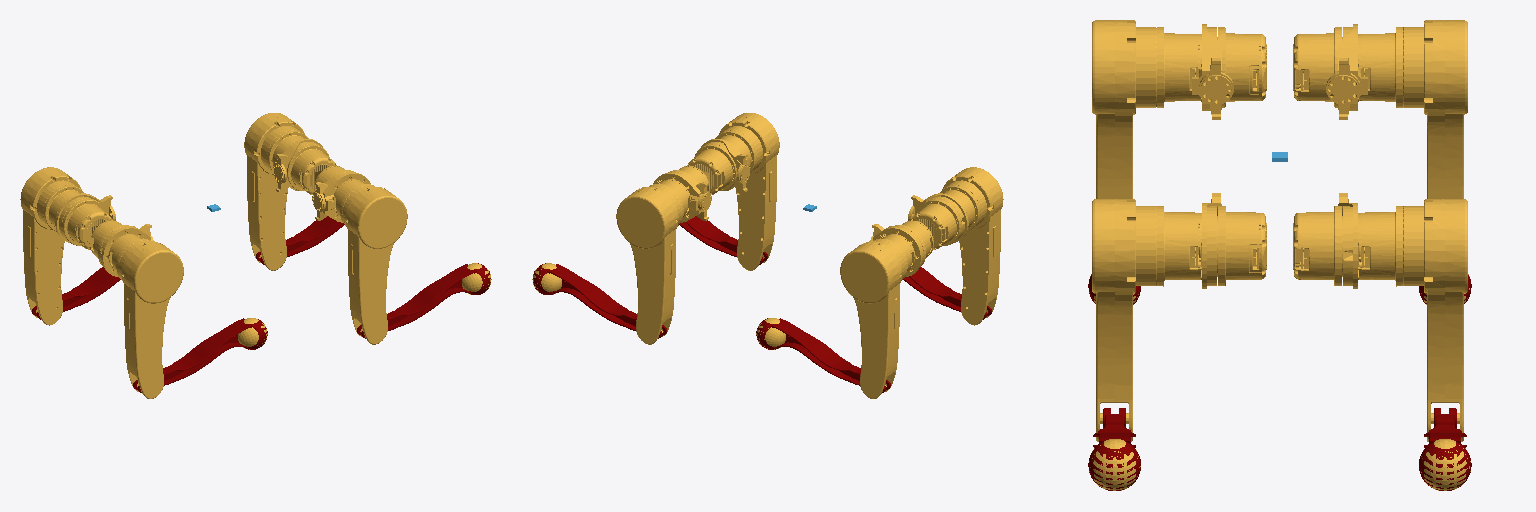
robot.urdf — robot:
<?xml version="1.0" ?>
<!-- =================================================================================== -->
<!-- |    This document was autogenerated by xacro from robot.xacro                    | -->
<!-- |    EDITING THIS FILE BY HAND IS NOT RECOMMENDED                                 | -->
<!-- =================================================================================== -->
<robot name="robot">
  <material name="black">
    <color rgba="0.0 0.0 0.0 1.0"/>
  </material>
  <material name="blue">
    <color rgba="0.0 0.0 0.8 1.0"/>
  </material>
  <material name="green">
    <color rgba="0.0 0.8 0.0 1.0"/>
  </material>
  <material name="gold">
    <color rgba="0.94901960784 0.75294117647 0.33725490196 0.0"/> 
  </material>
  <material name="grey">
    <color rgba="0.2 0.2 0.2 1.0"/>
  </material>
  <material name="silver">
    <color rgba="0.9137254901960784 0.9137254901960784 0.8470588235294118 1.0"/>
  </material>
  <material name="orange">
    <color rgba="1.0 0.4235294117647059 0.0392156862745098 1.0"/>
  </material>
  <material name="brown">
    <color rgba="0.8705882352941177 0.8117647058823529 0.7647058823529411 1.0"/>
  </material>
  <material name="red">
  <!-- aa0505 -->
    <!--color rgba="0.66666666667 0.01960784314 0.01960784314 1.0"/-->
    <color rgba="0.54901960784 0.04705882353 0.0431372549  1.0"/>
  </material>
  <material name="white">
    <color rgba="1.0 1.0 1.0 1.0"/>
  </material>
  <link name="base">
    <visual>
      <origin rpy="0 0 0" xyz="0 0 0"/>
      <geometry>
        <mesh filename="../meshes_ysc/base_link.STL" scale="1 1 1"/>
      </geometry>
      <material name="red"/>
    </visual>
    <collision>
      <origin rpy="0 0 0" xyz="0 0 0"/>
      <geometry>
        <box size="0.238 0.18 0.14"/>
      </geometry>
    </collision>
    <inertial>
      <origin rpy="0 0 0" xyz="0.00051375 -0.00026111 -0.00543225"/>
      <mass value="5.19760345"/>
      <inertia ixx="0.02304926" ixy="0.0002468" ixz="-0.00026556" iyy="0.05493657" iyz="5.697e-05" izz="0.06847865"/>
    </inertial>
  </link>
  <!-- Imu is fixed to the base link -->
  <joint name="unitree_imu_joint" type="fixed">
    <origin rpy="0. 0. 0." xyz="0. 0. 0."/>
    <parent link="base"/>
    <child link="unitree_imu"/>
  </joint>
  <!-- Imu link -->
  <link name="unitree_imu">
    <inertial>
      <mass value="0.01"/>
      <origin rpy="0 0 0" xyz="0 0 0"/>
      <inertia ixx="0.000001" ixy="0" ixz="0" iyy="0.000001" iyz="0" izz="0.000001"/>
    </inertial>
    <visual>
      <origin rpy="0 0 0" xyz="0 0 0"/>
      <geometry>
        <box size="0.015 0.015 0.004"/>
      </geometry>
    </visual>
    <material name="orange">
      <color rgba="255 108 10 255"/>
    </material>
  </link>

  <joint name="FR_hip_joint" type="revolute">
    <origin rpy="0 0 0" xyz="0.2 -0.06 -0.0"/>
    <parent link="base"/>
    <child link="FR_hip"/>
    <axis xyz="1 0 0"/>
    <dynamics damping="0.0" friction="0.0"/>
    <limit effort="19.94" lower="-0.45" upper="0.45" velocity="30.9971"/>
  </joint>
  <link name="FR_hip">
    <visual>
      <origin rpy="0 0 0" xyz="0 0 0"/>
      <!-- <origin rpy="${pi} 0 0" xyz="0 0 0"/> -->
      <geometry>
        <mesh filename="../meshes_ysc/R_hip_link.STL" scale="1 1 1"/>
      </geometry>
      <material name="gold"/>
    </visual>
    <!-- <collision>
      <origin rpy="1.5707963267948966 0 0" xyz="0 0 0"/>
      <geometry>
        <cylinder length="0.032" radius="0.035"/>
      </geometry>
    </collision> -->
    <inertial>
      <origin rpy="0 0 0" xyz="-0.00339594 0.01067293 -8.467e-05"/>
      <mass value="0.56914725"/>
      <inertia ixx="0.00031423" ixy="-2.734e-05" ixz="4e-07" iyy="0.00040314" iyz="1.33e-06" izz="0.00037574"/>
    </inertial>
  </link>
  <joint name="FR_thigh_joint" type="revolute">
    <!-- c -->
    <!-- <origin rpy="0 0 0" xyz="0 ${thigh_offset*mirror} 0"/> -->
    <origin rpy="0 0.0 0" xyz="0 -0.0963 0"/>
    <parent link="FR_hip"/>
    <child link="FR_thigh"/>
    <!-- <axis xyz="0 -1 0"/> -->
    <axis xyz="0 1 0"/>
    <dynamics damping="0.0" friction="0.0"/>
    <limit effort="19.94" lower="-1" upper="1.79" velocity="30.9971"/>
  </joint>
  <link name="FR_thigh">
    <visual>
      <origin rpy="0 0 0" xyz="0 0 0"/>
      <geometry>
        <mesh filename="../meshes_ysc/R_thigh_link.STL" scale="1 1 1"/>
      </geometry>
      <material name="gold"/>
    </visual>
    <collision>
      <origin rpy="0 1.5707963267948966 0" xyz="0 0 -0.09"/>
      <!-- <origin rpy="0 ${pi/2.0+0.1} 0" xyz="0 0 ${-thigh_length/2.0}"/> -->
      <geometry>
        <box size="0.18 0.03 0.03"/>
      </geometry>
    </collision>
    <!-- <collision>
      <origin rpy="1.5707963267948966 0 0" xyz="0 0 0"/>
      <geometry>
        <cylinder length="0.035" radius="0.035"/>
      </geometry>
    </collision> -->
    <inertial>
      <origin rpy="0 0 0" xyz="-0.00352314 0.0239451 -0.02373849"/>
      <mass value="1.01896172"/>
      <inertia ixx="0.0036974" ixy="-8.428e-05" ixz="-0.0002695" iyy="0.00342458" iyz="-0.00052094" izz="0.00112813"/>
    </inertial>
  </link>
  <joint name="FR_calf_joint" type="revolute">
    <!-- cc -->
    <origin rpy="0 0 0" xyz="0 0 -0.18"/>
    <parent link="FR_thigh"/>
    <child link="FR_calf"/>
    <axis xyz="0 1 0"/>
    <dynamics damping="0.0" friction="0.0"/>
    <limit effort="19.94" lower="-2.6195" upper="-0.9" velocity="30.9971"/>
  </joint>
  <link name="FR_calf">
    <visual>
      <origin rpy="0 0 0" xyz="0 0 0"/>
      <geometry>
        <mesh filename="../meshes_ysc/L_calf_link.STL" scale="1 1 1"/>
      </geometry>
      <material name="red"/>
    </visual>
    <collision>
      <origin rpy="0 1.5707963267948966 0" xyz="0 0 -0.09"/>
      <geometry>
        <box size="0.18 0.018 0.015"/>
      </geometry>
    </collision>
    <inertial>
      <origin rpy="0 0 0" xyz="-0.00039122 1.444e-05 -0.10612109"/>
      <mass value="0.2000138"/>
      <inertia ixx="0.0011472" ixy="2e-08" ixz="4.418e-05" iyy="0.00115864" iyz="-3.1e-07" izz="4.163e-05"/>
    </inertial>
  </link>
  <joint name="FR_foot_fixed" type="fixed" dont_collapse="true">
    <origin rpy="0 0 0" xyz="0 0 -0.18"/>
    <parent link="FR_calf"/>
    <child link="FR_foot"/>
  </joint>
  <link name="FR_foot">
    <visual>
      <origin rpy="0 0 0" xyz="0 0 0"/>
      <geometry>
        <sphere radius="0.025"/>
        <!-- <mesh filename="package://legged_redgo_description/meshes/$(arg robot_type)/FL_toe_link.STL" scale="1 1 1"/> -->
      </geometry>
      <material name="gold"/>
    </visual>
    <collision>
      <origin rpy="0 0 0" xyz="0 0 0"/>
      <geometry>
        <sphere radius="0.025"/>
      </geometry>
    </collision>
    <inertial>
      <mass value="0.0450952"/>
      <origin rpy="0 0 0" xyz="3.045e-05 0 -0.00104172"/>
      <inertia ixx="1.09e-05" ixy="0" ixz="0" iyy="1.316e-05" iyz="0" izz="1.277e-05"/>
    </inertial>
  </link>
  <joint name="FL_hip_joint" type="revolute">
    <origin rpy="0 0 0" xyz="0.2 0.06 -0.0"/>
    <parent link="base"/>
    <child link="FL_hip"/>
    <axis xyz="1 0 0"/>
    <dynamics damping="0.0" friction="0.0"/>
    <limit effort="19.94" lower="-0.45" upper="0.45" velocity="30.9971"/>
  </joint>
  <link name="FL_hip">
    <visual>
      <origin rpy="0 0 0" xyz="0 0 0"/>
      <geometry>
        <mesh filename="../meshes_ysc/L_hip_link.STL" scale="1 1 1"/>
      </geometry>
      <material name="gold"/>
    </visual>
    <!-- <collision>
      <origin rpy="1.5707963267948966 0 0" xyz="0 0 0"/>
      <geometry>
        <cylinder length="0.032" radius="0.035"/>
      </geometry>
    </collision> -->
    <inertial>
      <origin rpy="0 0 0" xyz="-0.00339594 -0.01067293 -8.467e-05"/>
      <mass value="0.56914725"/>
      <inertia ixx="0.00031423" ixy="2.734e-05" ixz="4e-07" iyy="0.00040314" iyz="-1.33e-06" izz="0.00037574"/>
    </inertial>
  </link>
  <joint name="FL_thigh_joint" type="revolute">
    <!-- c -->
    <!-- <origin rpy="0 0 0" xyz="0 ${thigh_offset*mirror} 0"/> -->
    <origin rpy="0 0.0 0" xyz="0 0.0963 0"/>
    <parent link="FL_hip"/>
    <child link="FL_thigh"/>
    <!-- <axis xyz="0 -1 0"/> -->
    <axis xyz="0 1 0"/>
    <dynamics damping="0.0" friction="0.0"/>
    <limit effort="19.94" lower="-1" upper="1.79" velocity="30.9971"/>
  </joint>
  <link name="FL_thigh">
    <visual>
      <origin rpy="0 0 0" xyz="0 0 0"/>
      <geometry>
        <mesh filename="../meshes_ysc/L_thigh_link.STL" scale="1 1 1"/>
      </geometry>
      <material name="gold"/>
    </visual>
    <collision>
      <origin rpy="0 1.5707963267948966 0" xyz="0 0 -0.09"/>
      <!-- <origin rpy="0 ${pi/2.0+0.1} 0" xyz="0 0 ${-thigh_length/2.0}"/> -->
      <geometry>
        <box size="0.18 0.03 0.03"/>
      </geometry>
    </collision>
    <!-- <collision>
      <origin rpy="1.5707963267948966 0 0" xyz="0 0 0"/>
      <geometry>
        <cylinder length="0.035" radius="0.035"/>
      </geometry>
    </collision> -->
    <inertial>
      <origin rpy="0 0 0" xyz="-0.00352314 -0.0239451 -0.02373849"/>
      <mass value="1.01896172"/>
      <inertia ixx="0.0036974" ixy="8.428e-05" ixz="-0.0002695" iyy="0.00342458" iyz="0.00052094" izz="0.00112813"/>
    </inertial>
  </link>
  <joint name="FL_calf_joint" type="revolute">
    <!-- cc -->
    <origin rpy="0 0 0" xyz="0 0 -0.18"/>
    <parent link="FL_thigh"/>
    <child link="FL_calf"/>
    <axis xyz="0 1 0"/>
    <dynamics damping="0.0" friction="0.0"/>
    <limit effort="19.94" lower="-2.6195" upper="-0.9" velocity="30.9971"/>
  </joint>
  <link name="FL_calf">
    <visual>
      <origin rpy="0 0 0" xyz="0 0 0"/>
      <geometry>
        <mesh filename="../meshes_ysc/L_calf_link.STL" scale="1 1 1"/>
      </geometry>
      <material name="red"/>
    </visual>
    <collision>
      <origin rpy="0 1.5707963267948966 0" xyz="0 0 -0.09"/>
      <geometry>
        <box size="0.18 0.018 0.015"/>
      </geometry>
    </collision>
    <inertial>
      <origin rpy="0 0 0" xyz="-0.00039122 1.444e-05 -0.10612109"/>
      <mass value="0.2000138"/>
      <inertia ixx="0.0011472" ixy="2e-08" ixz="4.418e-05" iyy="0.00115864" iyz="-3.1e-07" izz="4.163e-05"/>
    </inertial>
  </link>
  <joint name="FL_foot_fixed" type="fixed" dont_collapse="true">
    <origin rpy="0 0 0" xyz="0 0 -0.18"/>
    <parent link="FL_calf"/>
    <child link="FL_foot"/>
  </joint>
  <link name="FL_foot">
    <visual>
      <origin rpy="0 0 0" xyz="0 0 0"/>
      <geometry>
        <sphere radius="0.025"/>
        <!-- <mesh filename="package://legged_redgo_description/meshes/$(arg robot_type)/FL_toe_link.STL" scale="1 1 1"/> -->
      </geometry>
      <material name="gold"/>
    </visual>
    <collision>
      <origin rpy="0 0 0" xyz="0 0 0"/>
      <geometry>
        <sphere radius="0.025"/>
      </geometry>
    </collision>
    <inertial>
      <mass value="0.0450952"/>
      <origin rpy="0 0 0" xyz="3.045e-05 0 -0.00104172"/>
      <inertia ixx="1.09e-05" ixy="0" ixz="0" iyy="1.316e-05" iyz="0" izz="1.277e-05"/>
    </inertial>
  </link>

  <joint name="RR_hip_joint" type="revolute">
    <origin rpy="0 0 0" xyz="-0.2 -0.06 -0.0"/>
    <parent link="base"/>
    <child link="RR_hip"/>
    <axis xyz="1 0 0"/>
    <dynamics damping="0.0" friction="0.0"/>
    <limit effort="19.94" lower="-0.45" upper="0.45" velocity="30.9971"/>
  </joint>
  <link name="RR_hip">
    <visual>
      <origin rpy="0 0 3.141592653589793" xyz="0 0 0"/>
      <!-- <origin rpy="${pi} ${pi} 0" xyz="0 0 0"/> -->
      <geometry>
        <mesh filename="../meshes_ysc/L_hip_link.STL" scale="1 1 1"/>
      </geometry>
      <material name="gold"/>
    </visual>
    <!-- <collision>
      <origin rpy="1.5707963267948966 0 0" xyz="0 0 0"/>
      <geometry>
        <cylinder length="0.032" radius="0.035"/>
      </geometry>
    </collision> -->
    <inertial>
      <origin rpy="0 0 0" xyz="0.00339594 0.01067293 -8.467e-05"/>
      <mass value="0.56914725"/>
      <inertia ixx="0.00031423" ixy="2.734e-05" ixz="-4e-07" iyy="0.00040314" iyz="1.33e-06" izz="0.00037574"/>
    </inertial>
  </link>
  <joint name="RR_thigh_joint" type="revolute">
    <!-- c -->
    <!-- <origin rpy="0 0 0" xyz="0 ${thigh_offset*mirror} 0"/> -->
    <origin rpy="0 0.0 0" xyz="0 -0.0963 0"/>
    <parent link="RR_hip"/>
    <child link="RR_thigh"/>
    <!-- <axis xyz="0 -1 0"/> -->
    <axis xyz="0 1 0"/>
    <dynamics damping="0.0" friction="0.0"/>
    <limit effort="19.94" lower="-1" upper="1.79" velocity="30.9971"/>
  </joint>
  <link name="RR_thigh">
    <visual>
      <origin rpy="0 0 0" xyz="0 0 0"/>
      <geometry>
        <mesh filename="../meshes_ysc/R_thigh_link.STL" scale="1 1 1"/>
      </geometry>
      <material name="gold"/>
    </visual>
    <collision>
      <origin rpy="0 1.5707963267948966 0" xyz="0 0 -0.09"/>
      <!-- <origin rpy="0 ${pi/2.0+0.1} 0" xyz="0 0 ${-thigh_length/2.0}"/> -->
      <geometry>
        <box size="0.18 0.03 0.03"/>
      </geometry>
    </collision>
    <!-- <collision>
      <origin rpy="1.5707963267948966 0 0" xyz="0 0 0"/>
      <geometry>
        <cylinder length="0.035" radius="0.035"/>
      </geometry>
    </collision> -->
    <inertial>
      <origin rpy="0 0 0" xyz="-0.00352314 0.0239451 -0.02373849"/>
      <mass value="1.01896172"/>
      <inertia ixx="0.0036974" ixy="-8.428e-05" ixz="-0.0002695" iyy="0.00342458" iyz="-0.00052094" izz="0.00112813"/>
    </inertial>
  </link>
  <joint name="RR_calf_joint" type="revolute">
    <!-- cc -->
    <origin rpy="0 0 0" xyz="0 0 -0.18"/>
    <parent link="RR_thigh"/>
    <child link="RR_calf"/>
    <axis xyz="0 1 0"/>
    <dynamics damping="0.0" friction="0.0"/>
    <limit effort="19.94" lower="-2.6195" upper="-0.9" velocity="30.9971"/>
  </joint>
  <link name="RR_calf">
    <visual>
      <origin rpy="0 0 0" xyz="0 0 0"/>
      <geometry>
        <mesh filename="../meshes_ysc/L_calf_link.STL" scale="1 1 1"/>
      </geometry>
      <material name="red"/>
    </visual>
    <collision>
      <origin rpy="0 1.5707963267948966 0" xyz="0 0 -0.09"/>
      <geometry>
        <box size="0.18 0.018 0.015"/>
      </geometry>
    </collision>
    <inertial>
      <origin rpy="0 0 0" xyz="-0.00039122 1.444e-05 -0.10612109"/>
      <mass value="0.2000138"/>
      <inertia ixx="0.0011472" ixy="2e-08" ixz="4.418e-05" iyy="0.00115864" iyz="-3.1e-07" izz="4.163e-05"/>
    </inertial>
  </link>
  <joint name="RR_foot_fixed" type="fixed" dont_collapse="true">
    <origin rpy="0 0 0" xyz="0 0 -0.18"/>
    <parent link="RR_calf"/>
    <child link="RR_foot"/>
  </joint>
  <link name="RR_foot">
    <visual>
      <origin rpy="0 0 0" xyz="0 0 0"/>
      <geometry>
        <sphere radius="0.025"/>
        <!-- <mesh filename="package://legged_redgo_description/meshes/$(arg robot_type)/FL_toe_link.STL" scale="1 1 1"/> -->
      </geometry>
      <material name="gold"/>
    </visual>
    <collision>
      <origin rpy="0 0 0" xyz="0 0 0"/>
      <geometry>
        <sphere radius="0.025"/>
      </geometry>
    </collision>
    <!-- <inertial>
                <mass value="${foot_mass}"/>
                <inertia
                        ixx="${(2*foot_mass)/5.0*(foot_radius*foot_radius)}" ixy="0.0" ixz="0.0"
                        iyy="${(2*foot_mass)/5.0*(foot_radius*foot_radius)}" iyz="0.0"
                        izz="${(2*foot_mass)/5.0*(foot_radius*foot_radius)}"/>
            </inertial> -->
    <!-- <inertial>
                <mass value="${0.0}"/>
                <inertia
                        ixx="0.0" ixy="0.0" ixz="0.0"
                        iyy="0.0" iyz="0.0"
                        izz="0.0"/>
            </inertial> -->
    <inertial>
      <mass value="0.0450952"/>
      <origin rpy="0 0 0" xyz="3.045e-05 0 -0.00104172"/>
      <inertia ixx="1.09e-05" ixy="0" ixz="0" iyy="1.316e-05" iyz="0" izz="1.277e-05"/>
    </inertial>
  </link>

  <joint name="RL_hip_joint" type="revolute">
    <origin rpy="0 0 0" xyz="-0.2 0.06 -0.0"/>
    <parent link="base"/>
    <child link="RL_hip"/>
    <axis xyz="1 0 0"/>
    <dynamics damping="0.0" friction="0.0"/>
    <limit effort="19.94" lower="-0.45" upper="0.45" velocity="30.9971"/>
  </joint>
  <link name="RL_hip">
    <visual>
      <origin rpy="0 0 3.141592653589793" xyz="0 0 0"/>
      <!-- <origin rpy="0 ${pi} 0" xyz="0 0 0"/> -->
      <geometry>
        <mesh filename="../meshes_ysc/R_hip_link.STL" scale="1 1 1"/>
      </geometry>
      <material name="gold"/>
    </visual>
    <!-- <collision>
      <origin rpy="1.5707963267948966 0 0" xyz="0 0 0"/>
      <geometry>
        <cylinder length="0.032" radius="0.035"/>
      </geometry>
    </collision> -->
    <inertial>
      <origin rpy="0 0 0" xyz="0.00339594 -0.01067293 -8.467e-05"/>
      <mass value="0.56914725"/>
      <inertia ixx="0.00031423" ixy="-2.734e-05" ixz="-4e-07" iyy="0.00040314" iyz="-1.33e-06" izz="0.00037574"/>
    </inertial>
  </link>
  <joint name="RL_thigh_joint" type="revolute">
    <!-- c -->
    <!-- <origin rpy="0 0 0" xyz="0 ${thigh_offset*mirror} 0"/> -->
    <origin rpy="0 0.0 0" xyz="0 0.0963 0"/>
    <parent link="RL_hip"/>
    <child link="RL_thigh"/>
    <!-- <axis xyz="0 -1 0"/> -->
    <axis xyz="0 1 0"/>
    <dynamics damping="0.0" friction="0.0"/>
    <limit effort="19.94" lower="-1" upper="1.79" velocity="30.9971"/>
  </joint>
  <link name="RL_thigh">
    <visual>
      <origin rpy="0 0 0" xyz="0 0 0"/>
      <geometry>
        <mesh filename="../meshes_ysc/L_thigh_link.STL" scale="1 1 1"/>
      </geometry>
      <material name="gold"/>
    </visual>
    <collision>
      <origin rpy="0 1.5707963267948966 0" xyz="0 0 -0.09"/>
      <!-- <origin rpy="0 ${pi/2.0+0.1} 0" xyz="0 0 ${-thigh_length/2.0}"/> -->
      <geometry>
        <box size="0.18 0.03 0.03"/>
      </geometry>
    </collision>
    <!-- <collision>
      <origin rpy="1.5707963267948966 0 0" xyz="0 0 0"/>
      <geometry>
        <cylinder length="0.035" radius="0.035"/>
      </geometry>
    </collision> -->
    <inertial>
      <origin rpy="0 0 0" xyz="-0.00352314 -0.0239451 -0.02373849"/>
      <mass value="1.01896172"/>
      <inertia ixx="0.0036974" ixy="8.428e-05" ixz="-0.0002695" iyy="0.00342458" iyz="0.00052094" izz="0.00112813"/>
    </inertial>
  </link>
  <joint name="RL_calf_joint" type="revolute">
    <!-- cc -->
    <origin rpy="0 0 0" xyz="0 0 -0.18"/>
    <parent link="RL_thigh"/>
    <child link="RL_calf"/>
    <axis xyz="0 1 0"/>
    <dynamics damping="0.0" friction="0.0"/>
    <limit effort="19.94" lower="-2.6195" upper="-0.9" velocity="30.9971"/>
  </joint>
  <link name="RL_calf">
    <visual>
      <origin rpy="0 0 0" xyz="0 0 0"/>
      <geometry>
        <mesh filename="../meshes_ysc/L_calf_link.STL" scale="1 1 1"/>
      </geometry>
      <material name="red"/>
    </visual>
    <collision>
      <origin rpy="0 1.5707963267948966 0" xyz="0 0 -0.09"/>
      <geometry>
        <box size="0.18 0.018 0.015"/>
      </geometry>
    </collision>
    <inertial>
      <origin rpy="0 0 0" xyz="-0.00039122 1.444e-05 -0.10612109"/>
      <mass value="0.2000138"/>
      <inertia ixx="0.0011472" ixy="2e-08" ixz="4.418e-05" iyy="0.00115864" iyz="-3.1e-07" izz="4.163e-05"/>
    </inertial>
  </link>
  <joint name="RL_foot_fixed" type="fixed" dont_collapse="true">
    <origin rpy="0 0 0" xyz="0 0 -0.18"/>
    <parent link="RL_calf"/>
    <child link="RL_foot"/>
  </joint>
  <link name="RL_foot">
    <visual>
      <origin rpy="0 0 0" xyz="0 0 0"/>
      <geometry>
        <sphere radius="0.025"/>
        <!-- <mesh filename="package://legged_redgo_description/meshes/$(arg robot_type)/FL_toe_link.STL" scale="1 1 1"/> -->
      </geometry>
      <material name="gold"/>
    </visual>
    <collision>
      <origin rpy="0 0 0" xyz="0 0 0"/>
      <geometry>
        <sphere radius="0.025"/>
      </geometry>
    </collision>
    <!-- <inertial>
                <mass value="${foot_mass}"/>
                <inertia
                        ixx="${(2*foot_mass)/5.0*(foot_radius*foot_radius)}" ixy="0.0" ixz="0.0"
                        iyy="${(2*foot_mass)/5.0*(foot_radius*foot_radius)}" iyz="0.0"
                        izz="${(2*foot_mass)/5.0*(foot_radius*foot_radius)}"/>
            </inertial> -->
    <!-- <inertial>
                <mass value="${0.0}"/>
                <inertia
                        ixx="0.0" ixy="0.0" ixz="0.0"
                        iyy="0.0" iyz="0.0"
                        izz="0.0"/>
            </inertial> -->
    <inertial>
      <mass value="0.0450952"/>
      <origin rpy="0 0 0" xyz="3.045e-05 0 -0.00104172"/>
      <inertia ixx="1.09e-05" ixy="0" ixz="0" iyy="1.316e-05" iyz="0" izz="1.277e-05"/>
    </inertial>
  </link>

  <!-- Robot Footprint
  <joint name="footprint_joint" type="fixed">
    <parent link="base"/>
    <child link="base_footprint"/>
    <origin rpy="0 0 0" xyz="0.0 0.0 -0.2"/>
  </joint>
  <link name="base_footprint">
    <inertial>
      <origin rpy="1.5707963267948966 0 1.5707963267948966" xyz="0 0 0"/>
      <mass value="0.001"/>
      <inertia ixx="0.0" ixy="0.0" ixz="0.0" iyy="0.0" iyz="0.0" izz="0.0"/>
    </inertial>
  </link> -->
  <!-- <xacro:lidar parent="base" xyz="-0.065 0. 0.1" rpy="0. 0. 0."/> -->
</robot>

--- What the picture shows (computed from the rendered views, not written in the file) ---
The picture shows the robot from 3 angles, left to right: view 1: azimuth 30°, elevation 25°; view 2: azimuth 150°, elevation 25°; view 3: azimuth 270°, elevation 25°; orthographic projection.
Robot: robot — 18 links, 17 joints (12 revolute, 5 fixed); root link base; default pose: all joints at 0 but 4 set to mid-range because 0 is outside their limits (FR_calf_joint = -1.76, FL_calf_joint = -1.76, RR_calf_joint = -1.76, RL_calf_joint = -1.76).
Links seen in each view (by area): view 1: RR_thigh, FR_thigh, RL_thigh, FL_thigh, FL_hip, RL_hip, RR_calf, FR_calf, FR_hip, RR_hip, RL_calf, FL_calf; view 2: RL_thigh, FL_thigh, RR_thigh, FR_thigh, FR_hip, RR_hip, RL_calf, FL_calf, FL_hip, RL_hip, RR_calf, FR_calf; view 3: FL_thigh, FR_thigh, RL_thigh, RR_thigh, RR_hip, RL_hip, FR_hip, FL_hip, FL_calf, FR_calf, FR_foot, FL_foot.
Link boxes in pixels (box(x1,y1,x2,y2)): RR_thigh: box(108, 234, 183, 398); FR_thigh: box(333, 179, 407, 344); RL_thigh: box(20, 167, 83, 325); FL_thigh: box(244, 113, 308, 270); FL_hip: box(274, 139, 336, 194); RL_hip: box(55, 193, 115, 249); RR_calf: box(133, 318, 267, 392); FR_calf: box(357, 263, 490, 338); FR_hip: box(312, 166, 370, 222); RR_hip: box(91, 220, 153, 276); RL_calf: box(32, 267, 120, 319); FL_calf: box(256, 216, 344, 264); RL_thigh: box(840, 234, 915, 398); FL_thigh: box(616, 179, 690, 344); RR_thigh: box(940, 167, 1003, 325); FR_thigh: box(715, 113, 779, 270); FR_hip: box(687, 139, 749, 194); RR_hip: box(908, 193, 968, 249); RL_calf: box(756, 318, 890, 392); FL_calf: box(533, 263, 666, 338); FL_hip: box(653, 166, 711, 222); RL_hip: box(870, 220, 933, 276); RR_calf: box(903, 267, 991, 319); FR_calf: box(679, 216, 767, 264); FL_thigh: box(1358, 199, 1467, 441); FR_thigh: box(1092, 199, 1201, 441); RL_thigh: box(1358, 20, 1467, 198); RR_thigh: box(1092, 20, 1201, 198); RR_hip: box(1192, 24, 1266, 119); RL_hip: box(1293, 24, 1367, 119); FR_hip: box(1201, 193, 1266, 288); FL_hip: box(1293, 193, 1358, 288); FL_calf: box(1419, 408, 1471, 490); FR_calf: box(1088, 408, 1140, 490); FR_foot: box(1089, 439, 1140, 490); FL_foot: box(1421, 439, 1470, 490).
Size in the robot's own frame: 0.6463 by 0.3626 by 0.2521 metres.
12 mesh visuals loaded from 6 distinct referenced files (5 binary STL); not drawn: 1 (reference not matched to a file when rendering).
